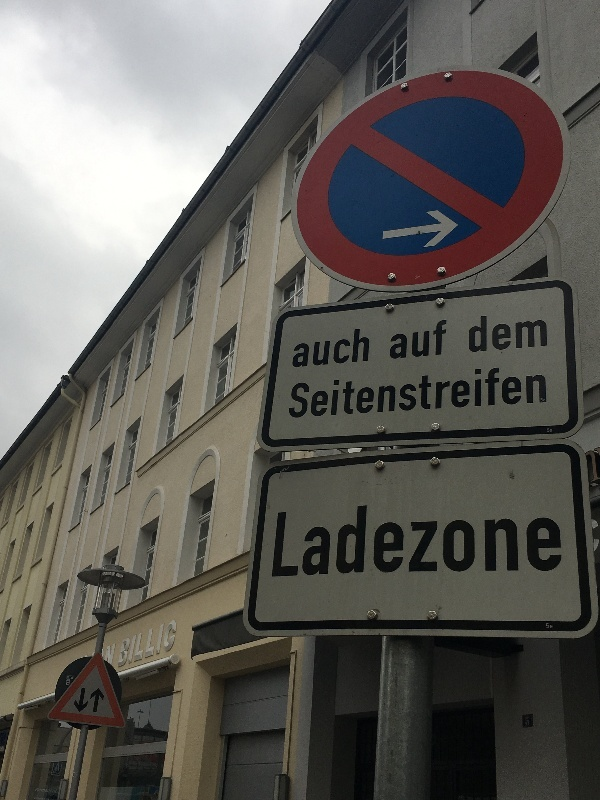text: (289, 493, 304, 581), (305, 493, 320, 581), (321, 493, 336, 581), (337, 493, 352, 581), (353, 493, 368, 581), (369, 493, 384, 581), (385, 493, 400, 581), (401, 493, 416, 581), (417, 493, 432, 581), (433, 493, 448, 581), (449, 493, 464, 581), (465, 493, 480, 581), (481, 493, 496, 581), (497, 493, 512, 581), (513, 493, 528, 581), (529, 493, 544, 581), (545, 493, 560, 581), (274, 493, 288, 581), (305, 365, 320, 421), (321, 365, 336, 421), (337, 365, 352, 421), (353, 365, 368, 421), (369, 365, 384, 421), (385, 365, 400, 421), (401, 365, 416, 421), (417, 365, 432, 421), (433, 365, 448, 421), (449, 365, 464, 421), (465, 365, 480, 421), (481, 365, 496, 421), (497, 365, 512, 421), (513, 365, 528, 421), (529, 365, 544, 421), (290, 365, 304, 421), (129, 617, 144, 668), (145, 617, 160, 668), (161, 617, 176, 668), (305, 325, 320, 368), (321, 325, 336, 368), (337, 325, 352, 368), (353, 325, 368, 368), (401, 319, 416, 360), (417, 319, 432, 360), (433, 319, 447, 360), (481, 315, 496, 353), (497, 315, 512, 353), (513, 315, 528, 353), (529, 315, 544, 353), (293, 325, 304, 368), (97, 641, 112, 672), (389, 319, 400, 360), (469, 315, 480, 353), (85, 641, 96, 672), (122, 617, 128, 668), (561, 493, 563, 581), (35, 788, 48, 797), (545, 315, 548, 353), (545, 365, 547, 421), (113, 641, 116, 672), (49, 788, 59, 797), (369, 325, 371, 368), (546, 623, 560, 629), (177, 617, 178, 668), (525, 716, 528, 727), (529, 716, 530, 727)
